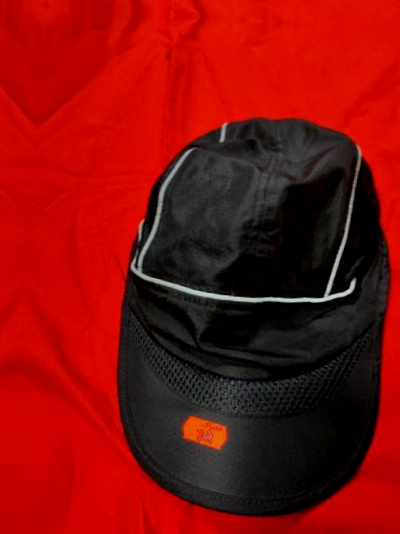Hat: (88, 74, 400, 517)
